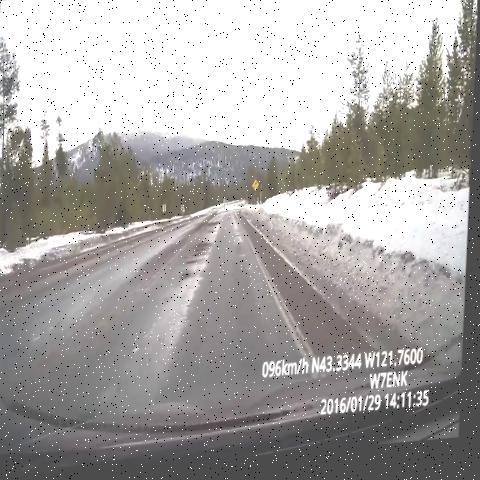pothole: (186, 245, 213, 273), (180, 263, 200, 289), (205, 225, 221, 245)
